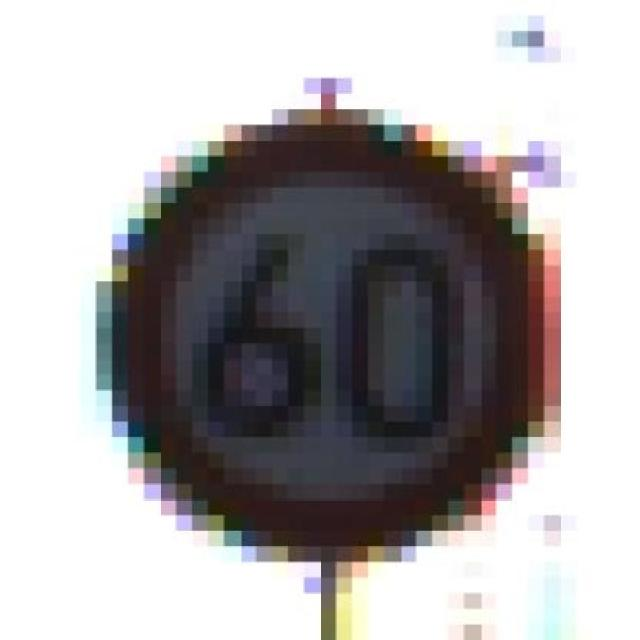forb_speed_over_60: (111, 120, 546, 554)
